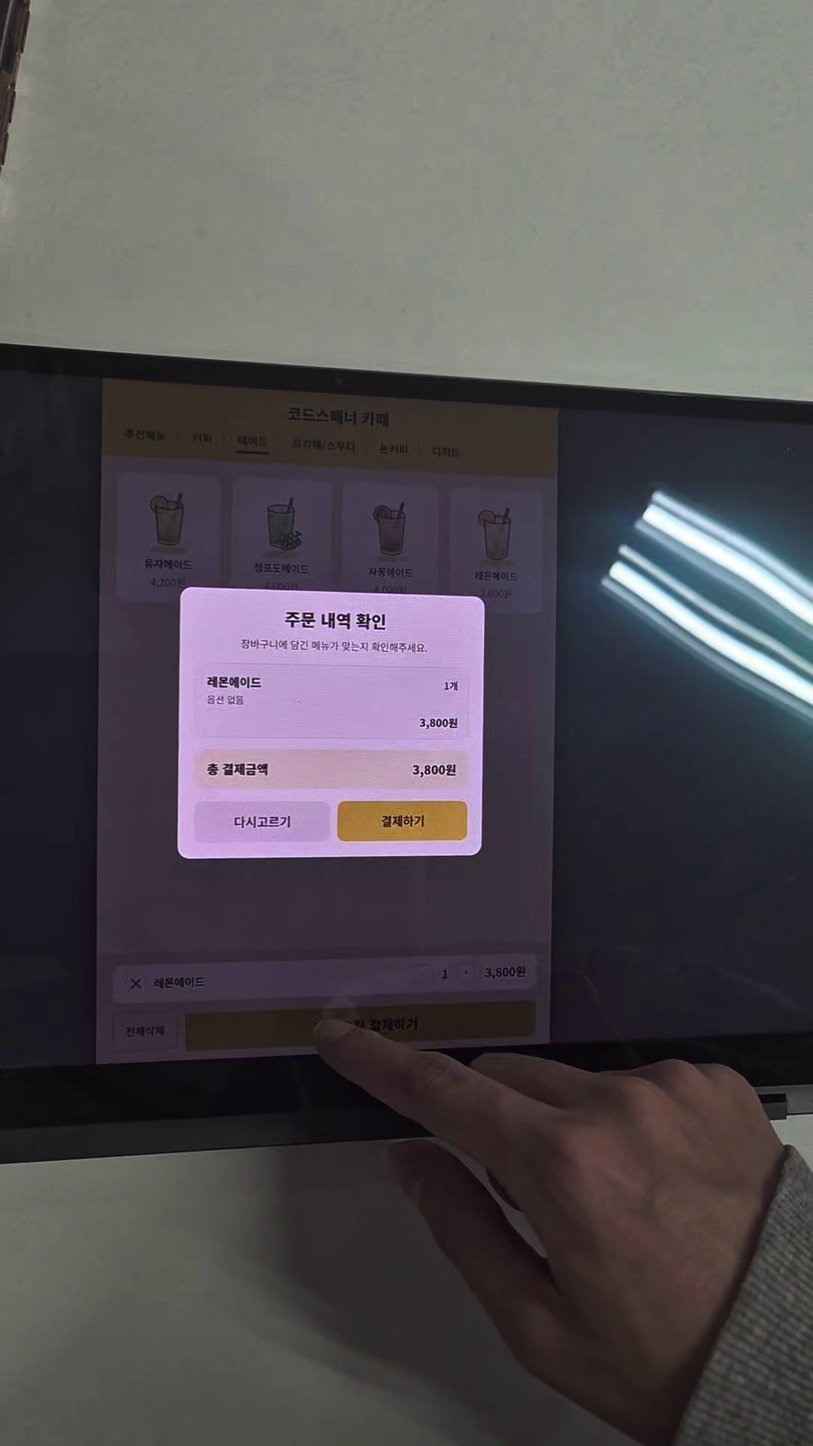action_button: (185, 1000, 536, 1052), (194, 801, 330, 842), (337, 800, 468, 842), (113, 1011, 177, 1050)
cart_item: (113, 953, 538, 1004)
category_tab: (290, 437, 357, 454), (124, 427, 167, 444), (377, 440, 409, 456), (237, 433, 269, 448), (431, 443, 461, 459), (190, 432, 213, 445)
menu_back: (115, 471, 223, 604), (231, 474, 333, 607), (341, 483, 438, 612), (449, 487, 544, 615)
menu_name: (253, 561, 310, 576), (367, 565, 415, 579), (142, 558, 193, 571), (473, 569, 519, 583)
menu_price: (148, 576, 186, 589), (478, 587, 514, 600)
popup_modal: (177, 586, 485, 860)
